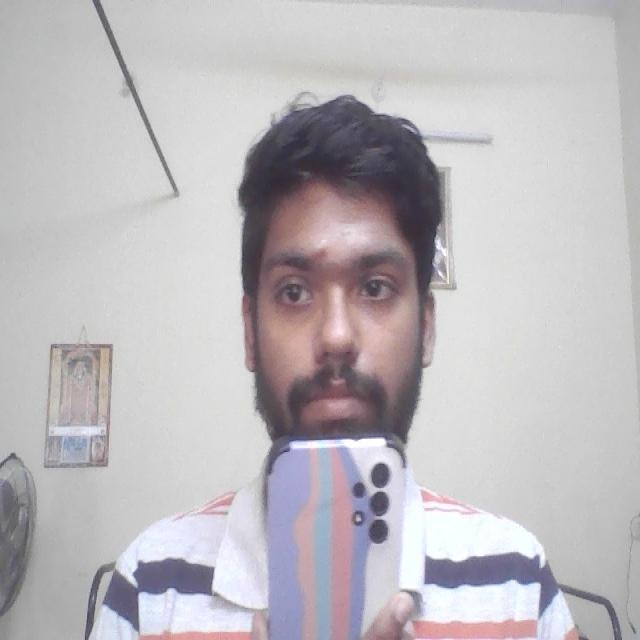Mobile: (267, 433, 409, 640)
